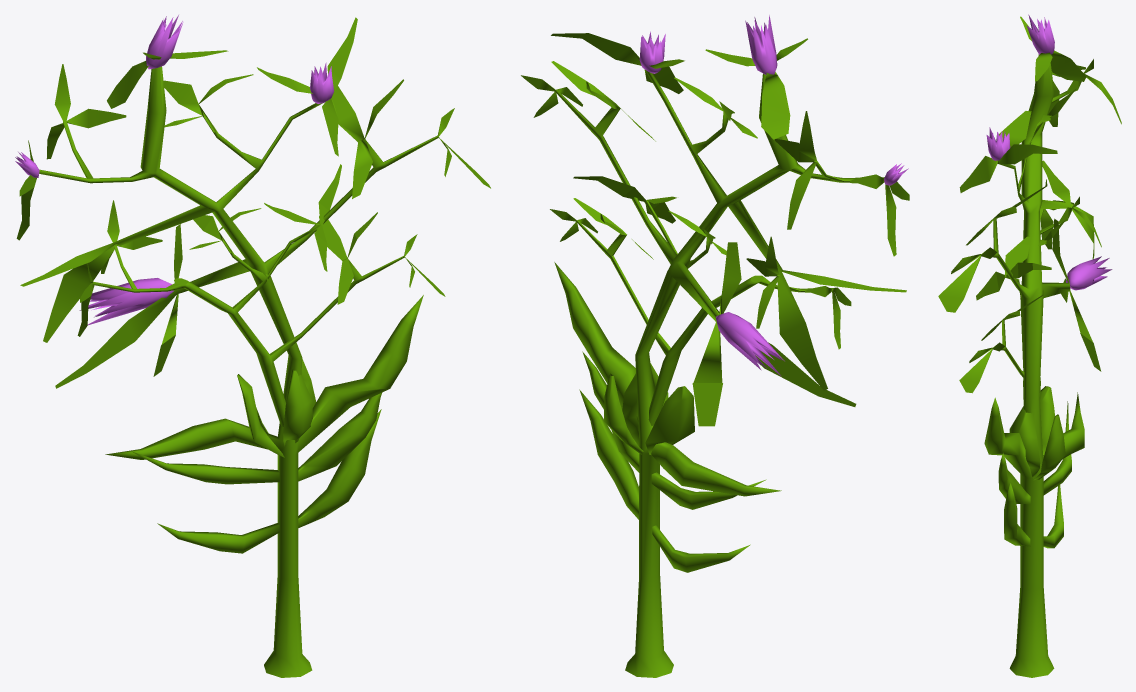
File: ErbaMedica.fbx
3 views of the same model, side by side, from view 1: azimuth 30°, elevation 25°; view 2: azimuth 150°, elevation 25°; view 3: azimuth 270°, elevation 25° (orthographic). The views are drawn at different scales.
Parts seen in each view (by area): view 1: Sphere.002, Sphere.001, Sphere, Cube.009, Cube.007, Cube.006; view 2: Sphere.002, Sphere.001, Sphere, Cube.009, Cube.007, Cube.006; view 3: Sphere.002, Sphere.001, Sphere, Cube.009, Cube.007, Cube.006.
Boxes of the visible parts, left/top/right/bottom form: Sphere.002: left=16, top=17, right=490, bottom=677; Sphere.001: left=77, top=164, right=445, bottom=484; Sphere: left=157, top=359, right=381, bottom=553; Cube.009: left=79, top=278, right=173, bottom=325; Cube.007: left=146, top=15, right=183, bottom=69; Cube.006: left=310, top=62, right=334, bottom=103; Sphere.002: left=521, top=33, right=909, bottom=677; Sphere.001: left=550, top=176, right=851, bottom=509; Sphere: left=579, top=363, right=750, bottom=572; Cube.009: left=716, top=312, right=784, bottom=376; Cube.007: left=745, top=15, right=777, bottom=74; Cube.006: left=639, top=31, right=665, bottom=73; Sphere.002: left=938, top=16, right=1121, bottom=677; Sphere.001: left=959, top=196, right=1101, bottom=504; Sphere: left=1004, top=386, right=1065, bottom=548; Cube.009: left=1066, top=256, right=1112, bottom=290; Cube.007: left=1026, top=14, right=1054, bottom=54; Cube.006: left=986, top=127, right=1010, bottom=160.
Bounding box in the file's own units: 78.19 × 119 × 32.89.
